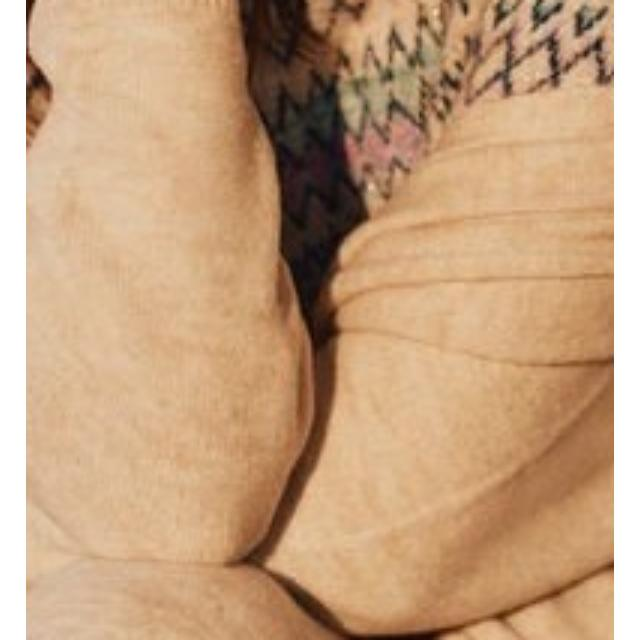wool: (26, 0, 614, 640)
